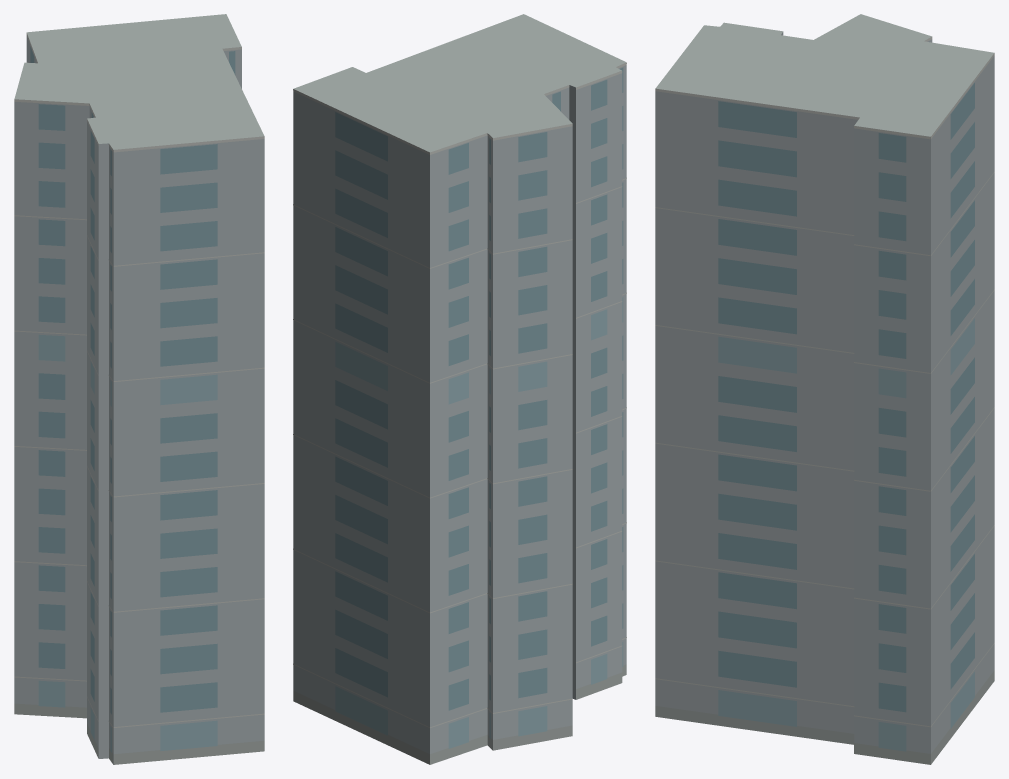
File: survey-upis-33040527.glb
The picture shows the model from 3 angles, left to right: view 1: azimuth 30°, elevation 25°; view 2: azimuth 150°, elevation 25°; view 3: azimuth 270°, elevation 25°; orthographic projection. The views are drawn at different scales.
Visible parts, largest first — view 1: survey-upis-33040527.tmp; view 2: survey-upis-33040527.tmp; view 3: survey-upis-33040527.tmp.
Boxes of the visible parts, x1,y1,x2,y2 form: survey-upis-33040527.tmp: [14, 14, 264, 764]; survey-upis-33040527.tmp: [293, 14, 626, 764]; survey-upis-33040527.tmp: [655, 14, 994, 764].
Size of the model in its own units: 24.62 by 58.67 by 28.74.
